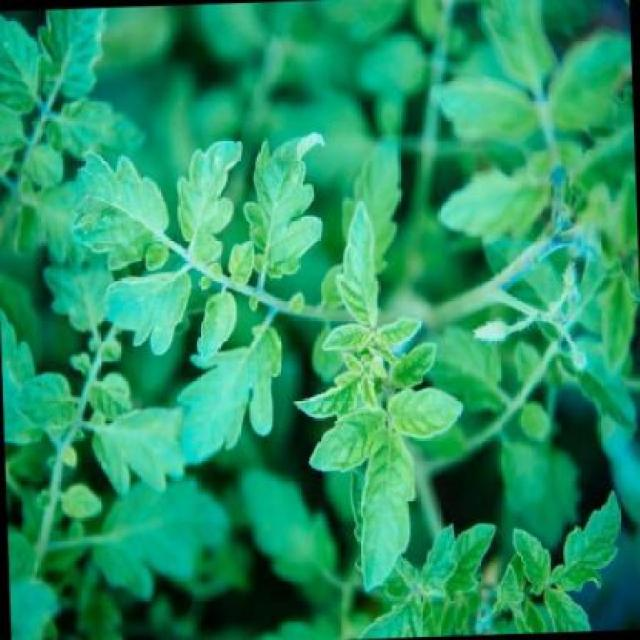Healthy Leaf: (178, 311, 288, 469), (240, 120, 329, 291), (68, 148, 172, 275), (360, 395, 418, 574), (178, 114, 240, 277), (97, 260, 195, 358), (549, 477, 628, 598), (414, 506, 500, 606), (300, 406, 394, 480), (334, 198, 384, 336), (388, 383, 464, 440), (509, 514, 558, 597)
